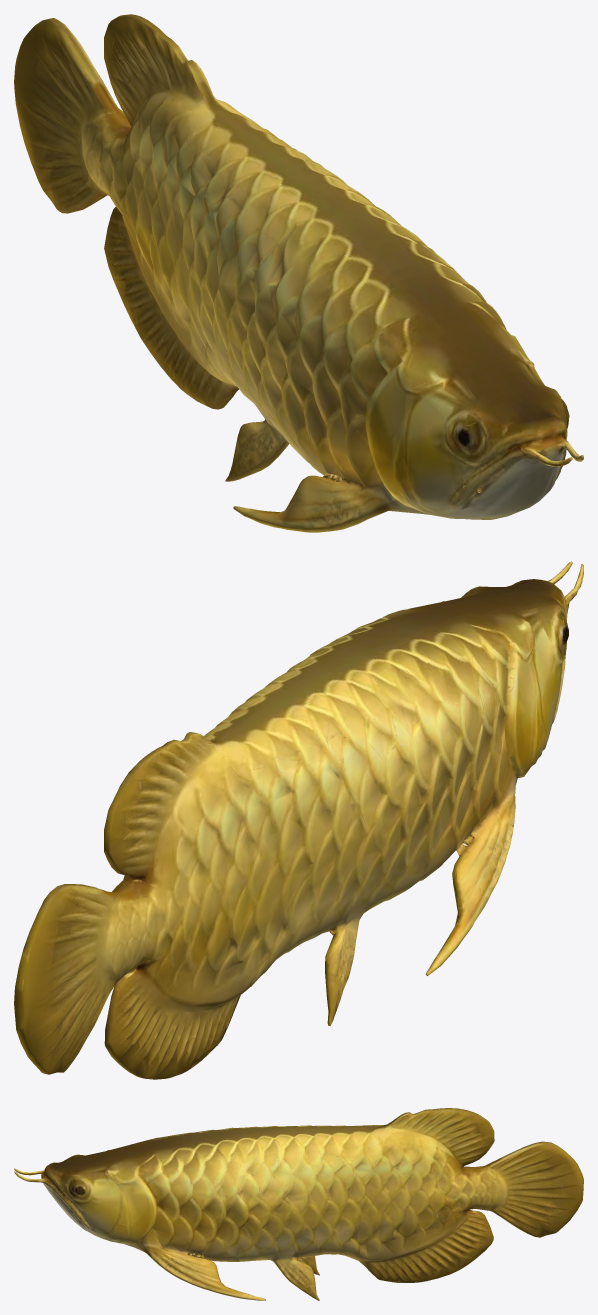
Rendered from fish_golden_arowana.glb.
3 renders of one model, top to bottom at view 1: azimuth 30°, elevation 25°; view 2: azimuth 150°, elevation 25°; view 3: azimuth 270°, elevation 25°, orthographic. The views are drawn at different scales.
Parts seen in each view (by area): view 1: Mesh_0; view 2: Mesh_0; view 3: Mesh_0.
Boxes of the visible parts, box(x1,y1,x2,y2) form: Mesh_0: box(14, 14, 583, 532); Mesh_0: box(14, 561, 583, 1079); Mesh_0: box(14, 1108, 583, 1300).
Bounding box in the file's own units: 0.3901 × 0.6646 × 1.91.
1 material, 1 textured.
